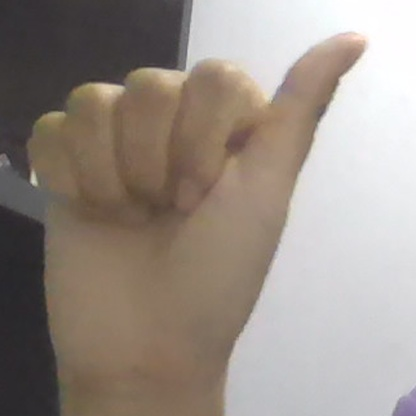A: (28, 33, 366, 387)
